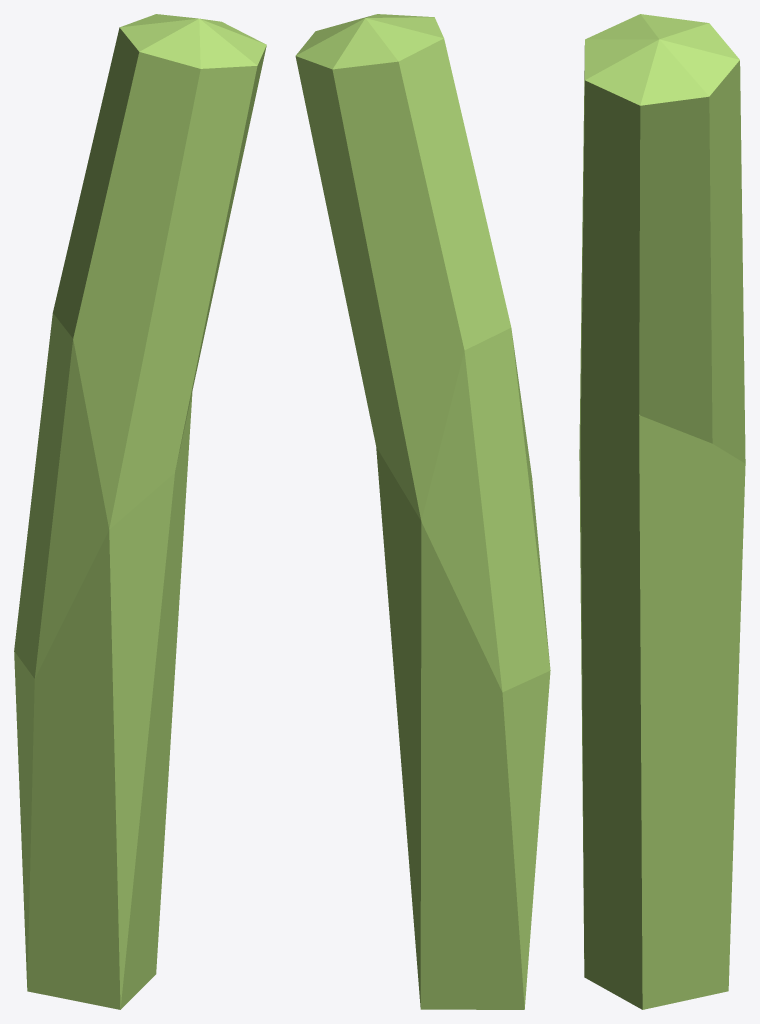
The model's file is Cactus_b_m_BT_02.fbx.
The picture shows the model from 3 angles, left to right: view 1: azimuth 30°, elevation 25°; view 2: azimuth 150°, elevation 25°; view 3: azimuth 270°, elevation 25°; orthographic projection. The views are drawn at different scales.
Visible parts, largest first — view 1: Cactus_b_m_BT_02; view 2: Cactus_b_m_BT_02; view 3: Cactus_b_m_BT_02.
Boxes of the visible parts, x1,y1,x2,y2 form: Cactus_b_m_BT_02: (14,14,266,1009); Cactus_b_m_BT_02: (295,14,550,1009); Cactus_b_m_BT_02: (579,14,745,1009).
Bounding box in the file's own units: 57.69 × 222 × 33.56.
